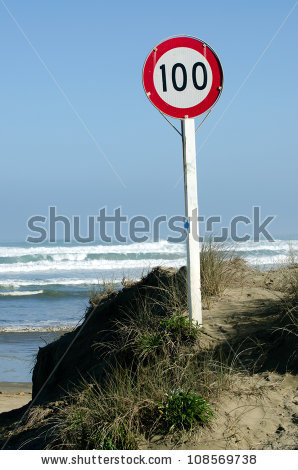Speed_limit_100km: (141, 36, 224, 118)
